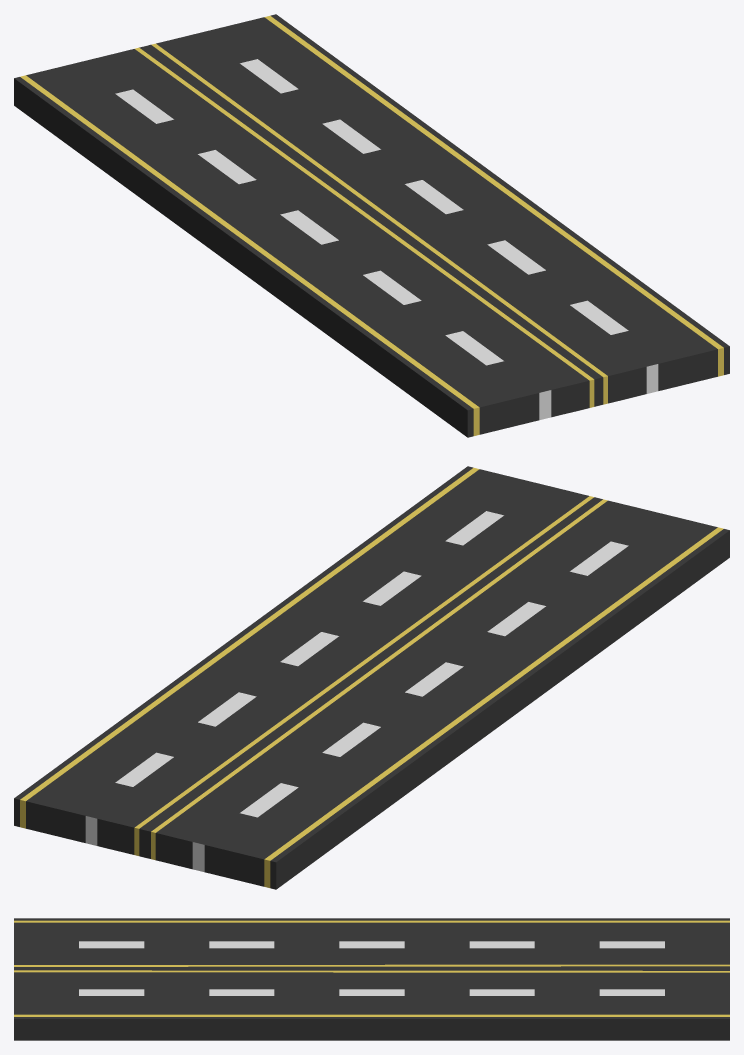
File: Road.fbx
3 views of the same model, one above another, from view 1: azimuth 30°, elevation 25°; view 2: azimuth 150°, elevation 25°; view 3: azimuth 270°, elevation 25° (orthographic). The views are drawn at different scales.
Visible parts, largest first — view 1: Cube; view 2: Cube; view 3: Cube.
Part boxes in pixels (left/top/right/bottom): Cube: left=14, top=14, right=729, bottom=437; Cube: left=14, top=466, right=729, bottom=889; Cube: left=14, top=918, right=729, bottom=1040.
Bounding box in the file's own units: 2002 × 201 × 6000.
